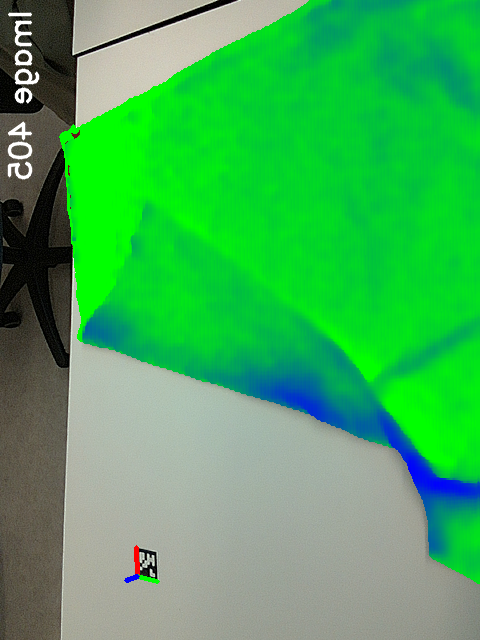V: (126, 193, 184, 243)
